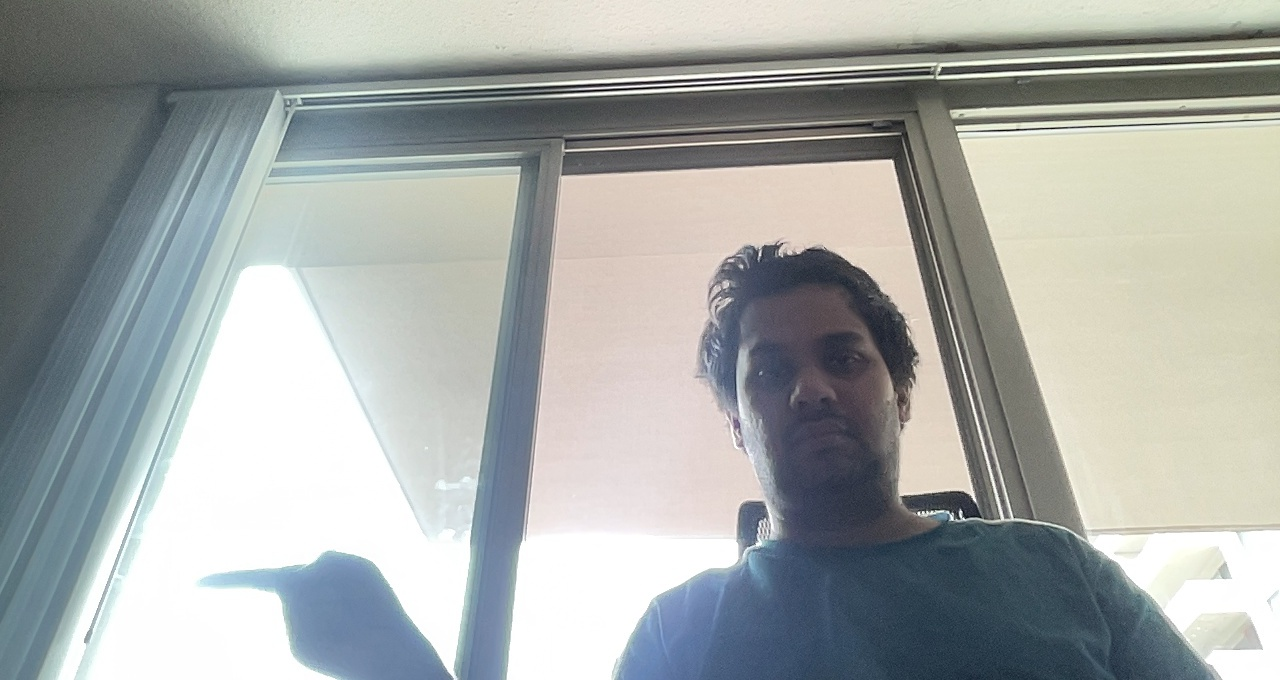fingerright: (195, 545, 443, 670)
